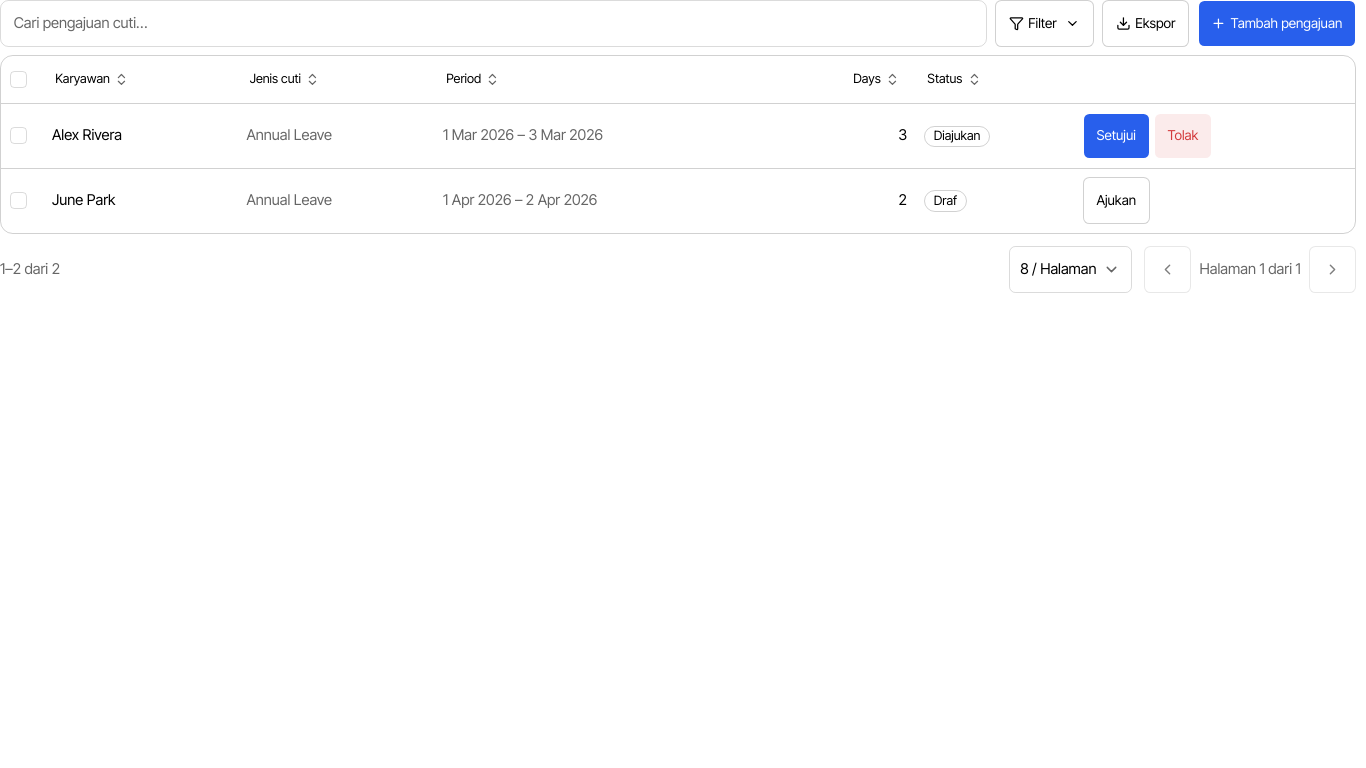
it: LeaveRequestsSection › opens the create dialog from the add button
Expected: the text "Alex Rivera" is shown, left=52, top=126, right=122, bottom=144
Click the button "Tambah pengajuan" at {"x": 1277, "y": 23}, box left=1198, top=0, right=1356, bottom=47
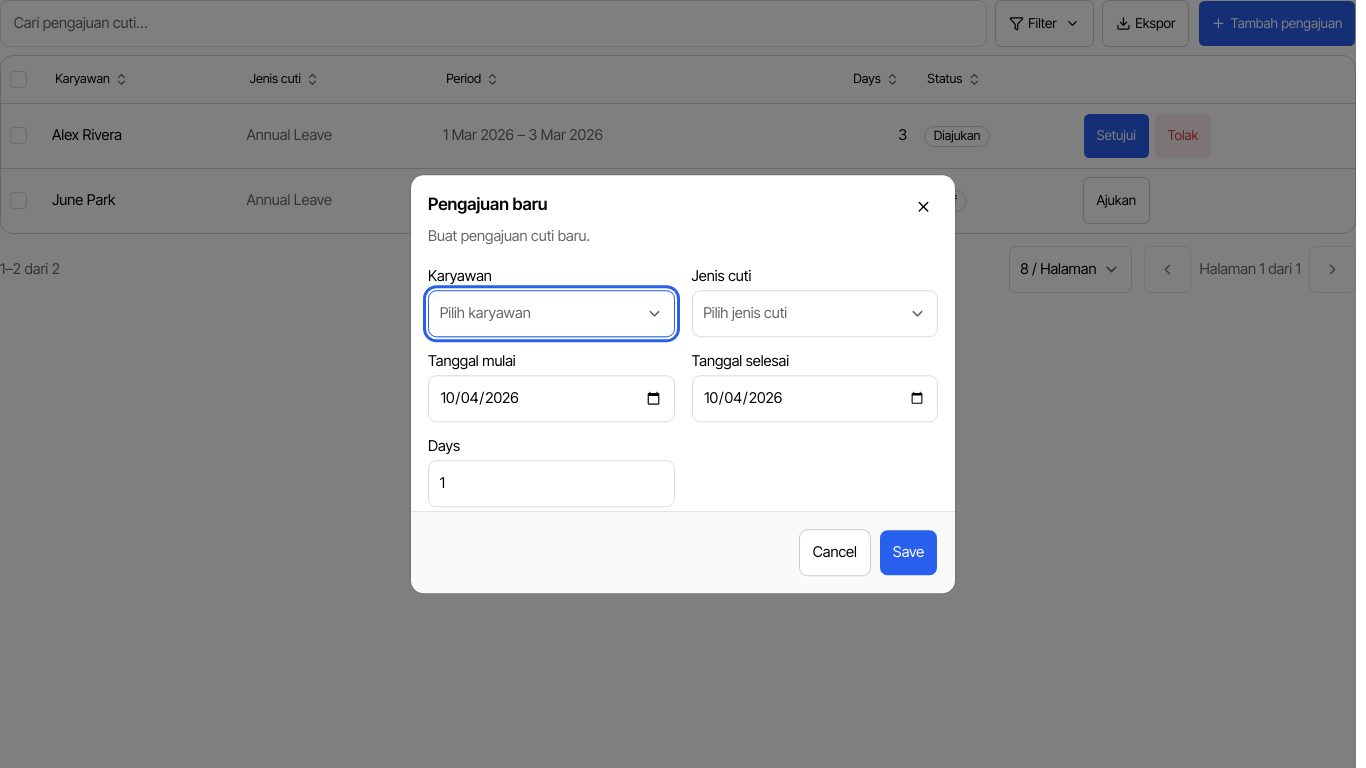
Expected: the dialog is shown, left=411, top=175, right=955, bottom=593
